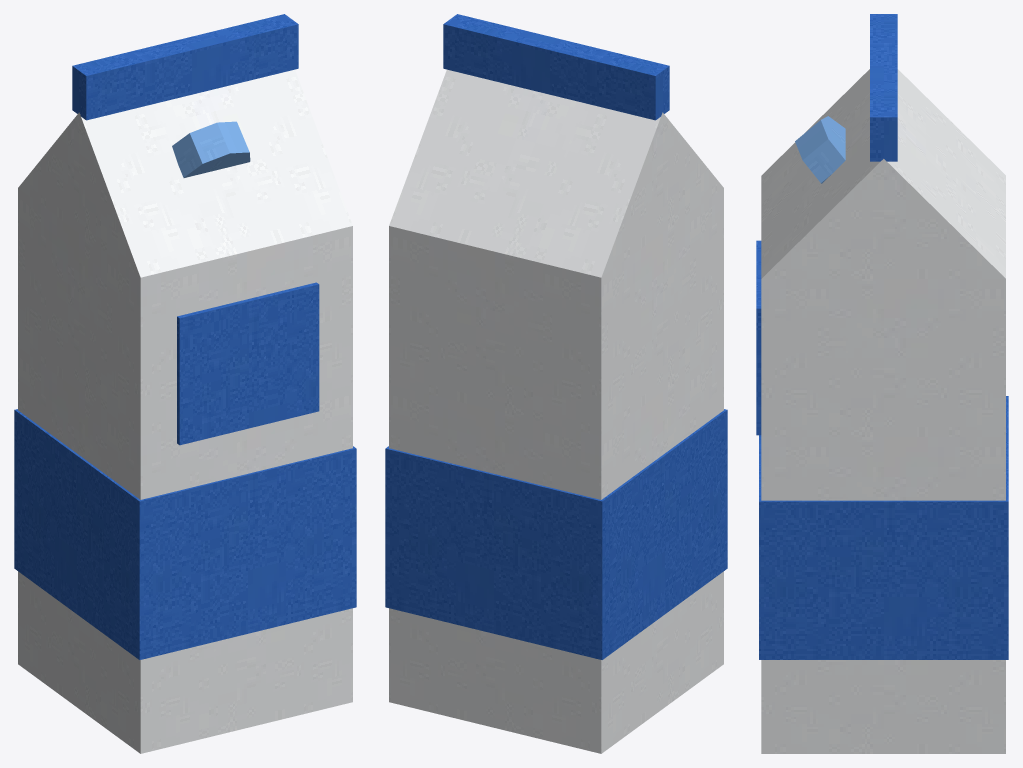
3 renders of one model, left to right at view 1: azimuth 30°, elevation 25°; view 2: azimuth 150°, elevation 25°; view 3: azimuth 270°, elevation 25°, orthographic.
Visible parts, largest first — view 1: milk_carton; view 2: milk_carton; view 3: milk_carton.
Boxes of the visible parts, left/top/right/bottom form: milk_carton: left=14, top=14, right=356, bottom=753; milk_carton: left=385, top=14, right=727, bottom=753; milk_carton: left=756, top=14, right=1008, bottom=753.
Bounding box in the file's own units: 0.0715 × 0.201 × 0.0722.
Materials: 3 (3 with a texture image).
